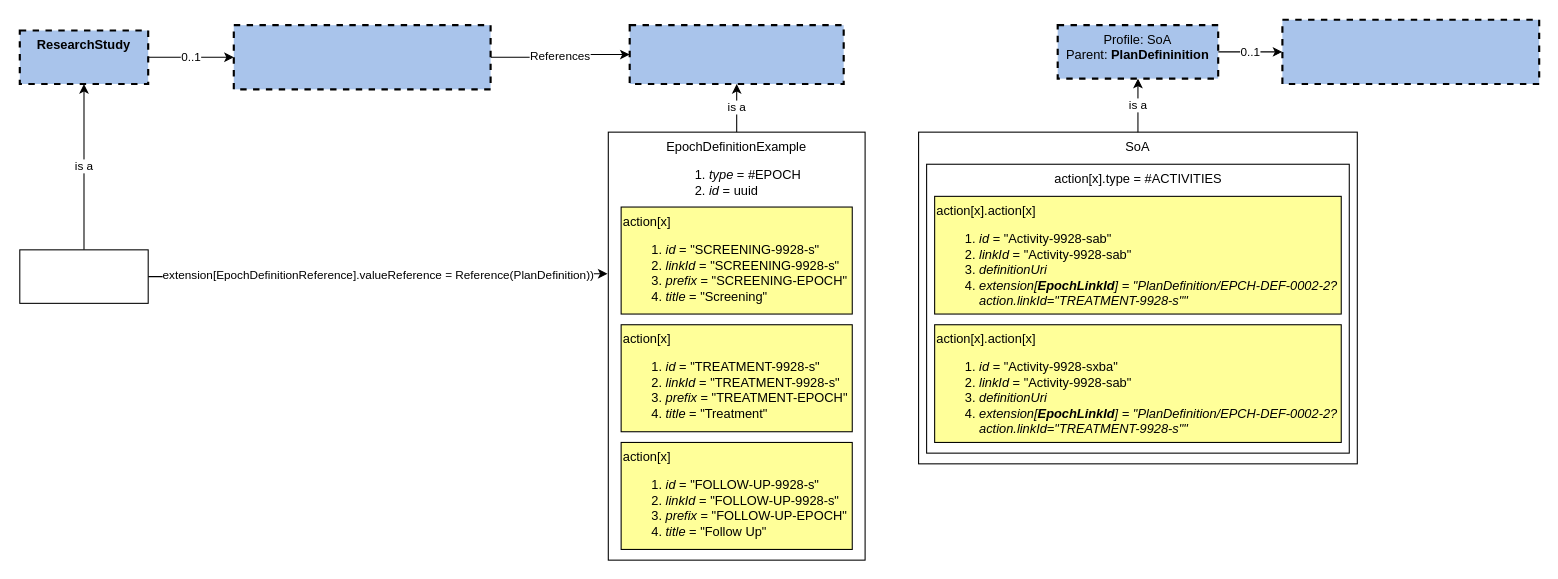
This 1558x579 diagram has some shape labels left out. Each missing label, with the centre of its shape:
Extension < EpochDefinition .action> EpochLinkId value[x] only uri: point (1410, 51)
Extension EpochDefinitionReference value[x] only Reference(EpochDefinition): point (361, 57)
Profile: EpochDefinition Parent: PlanDefinition: point (736, 54)
TheResearchStudy <ResearchStudy>: point (83, 276)
